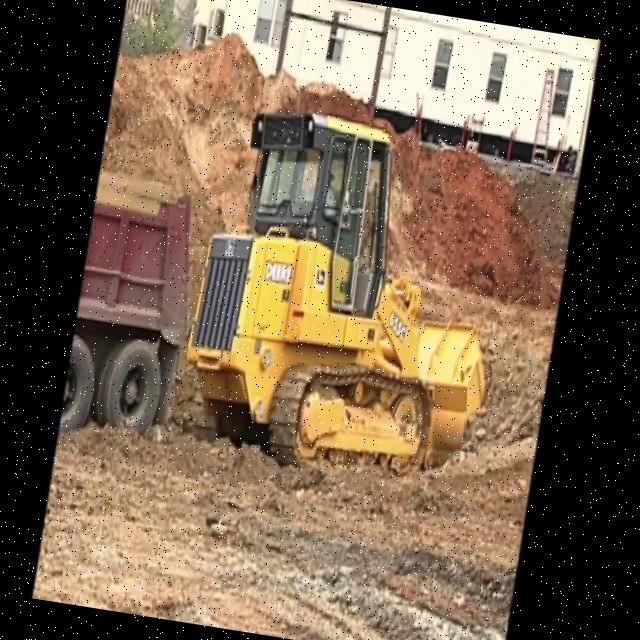Dump Truck: (58, 155, 206, 445)
Loader: (170, 89, 530, 496)
